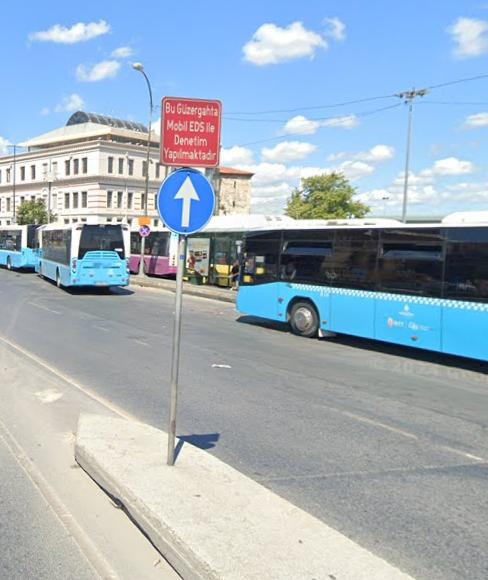forward: (161, 170, 211, 227)
